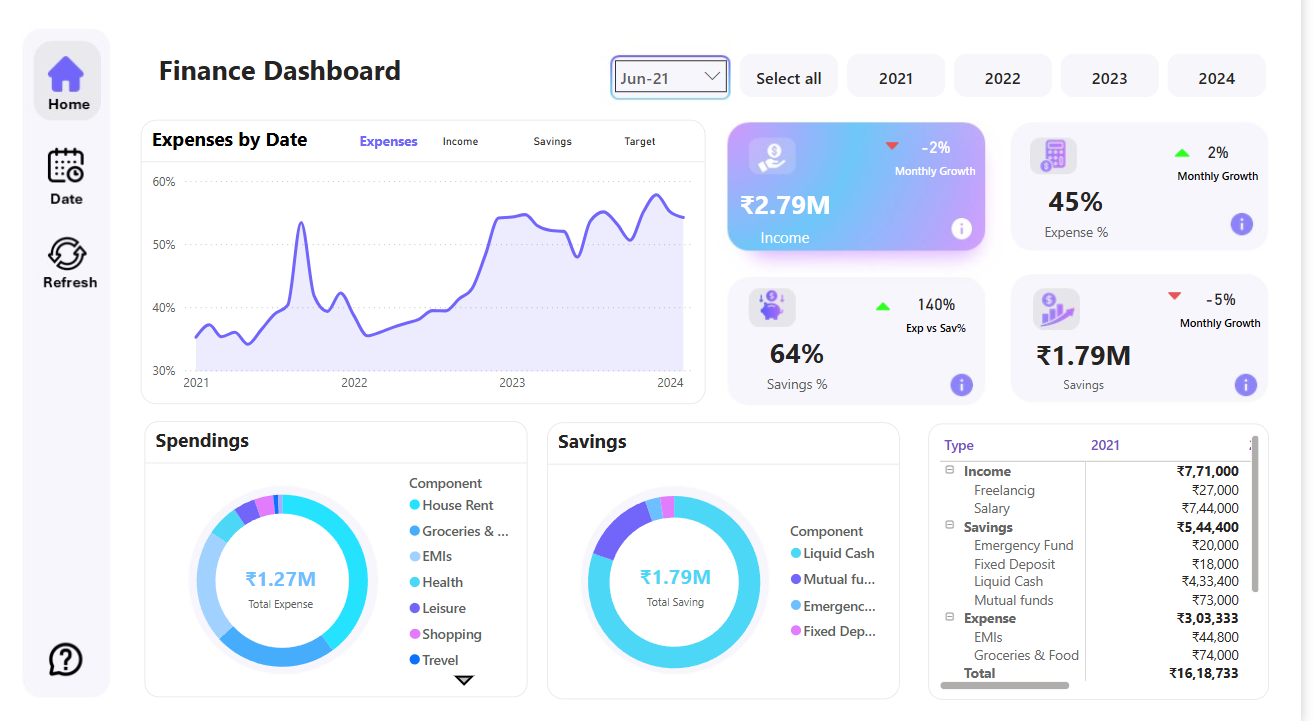

The dashboard page shown, as its layout file describes it:
{"tool":"powerbi","page":{"name":"Fin Dashboard","canvas":[1280,720],"ordinal":0},"visuals":[{"type":"card","fields":{"Values":["Key Measures.Total Income"]},"box":[718.4,187.4,109.3,65.6],"z":0},{"type":"card","fields":{"Values":["Key Measures.Expense %"]},"box":[999.6,182.7,118.7,65.6],"z":1000},{"type":"card","fields":{"Values":["Key Measures.Savings %"]},"box":[718.4,329.5,132.8,70.3],"z":2000},{"type":"card","fields":{"Values":["Key Measures.Total Saving"]},"box":[1001.1,329.5,131.2,71.8],"z":3000},{"type":"advancedSlicerVisual","fields":{"Values":["FinData.Year"]},"box":[724.4,56.7,529.6,53.1],"z":4000},{"type":"card","fields":{"Values":["Key Measures.Title"]},"box":[148.5,51.1,259,52.8],"z":5000},{"type":"donutChart","title":"Spendings","fields":{"Category":["FinData.Component"],"Y":["Divide(Key Measures.Total Expense, ScopedEval(Key Measures.Total Expense, []))"]},"box":[145.3,421.6,375.8,271.6],"z":6000},{"type":"areaChart","fields":{"Category":["FinData.Date"],"Y":["Key Measures.Trend_Hanle"]},"box":[140.6,126.5,554.4,279.6],"z":7000},{"type":"donutChart","title":"Savings","fields":{"Category":["FinData.Component"],"Y":["Divide(Key Measures.Total Saving, ScopedEval(Key Measures.Total Saving, []))"]},"box":[540.4,423.3,346.7,271.8],"z":8000},{"type":"advancedSlicerVisual","fields":{"Values":["Card_Handle.Type"]},"box":[338.1,127,359.6,42.9],"z":9000},{"type":"card","fields":{"Values":["Key Measures.Total Saving"]},"box":[618.6,546,95.7,74.2],"z":10000},{"type":"card","fields":{"Values":["Key Measures.Total Expense"]},"box":[216.1,539.4,125.4,90.7],"z":11000},{"type":"pivotTable","fields":{"Values":["Key Measures.Values"],"Columns":["FinData.Year","FinData.Date"],"Rows":["Type.Type","FinData.Component"]},"box":[914,425.1,334.8,271],"z":12000},{"type":"slicer","fields":{"Values":["Select_Month.Month-Yr"]},"box":[596.6,57.8,129.6,54.7],"z":13000},{"type":"card","title":"Monthly Growth","fields":{"Values":["Key Measures.Monthly_Growth"]},"box":[876.3,126.3,90,69.5],"z":14000},{"type":"card","title":"Monthly Growth","fields":{"Values":["Key Measures.Monthly_Expense_Growth"]},"box":[1153.1,131.1,90.3,69.1],"z":15000},{"type":"card","title":"Monthly Growth","fields":{"Values":["Key Measures.Monthy_Saving_Growth"]},"box":[876.3,285.8,91.6,60],"z":16000},{"type":"card","title":"Monthly Growth","fields":{"Values":["Key Measures.Monthly_Saving_Growth"]},"box":[1155.8,276.3,90,69.5],"z":17000},{"type":"cardVisual","fields":{"Data":["Key Measures.Arrow_icome"]},"box":[1131.8,131.1,72.6,51.4],"z":18000},{"type":"cardVisual","fields":{"Data":["Key Measures.Arrow_icome"]},"box":[1125.8,276.7,72.5,37.5],"z":19000},{"type":"cardVisual","fields":{"Data":["Key Measures.Arrow_Ex_vs_Savings"]},"box":[840.3,285.8,71.8,37.5],"z":20000},{"type":"cardVisual","fields":{"Data":["Key Measures.Arrow_Income_Savings"]},"box":[849.2,128.3,72.5,37.5],"z":21000},{"type":"actionButton","box":[34.4,235.8,65.6,68.7],"z":22000},{"type":"group","id":"g1","title":"Group 1","box":[35.3,146.6,404.5,314.6],"z":23000},{"type":"actionButton","box":[37.5,148.4,64,68.7],"z":24000},{"type":"cardVisual","fields":{"Data":["Key Measures.Total Saving"]},"box":[1197.3,359.4,48.8,43],"z":25000},{"type":"cardVisual","fields":{"Data":["Key Measures.Savings %"]},"box":[914.1,359.4,54.7,41],"z":26000},{"type":"cardVisual","fields":{"Data":["Key Measures.Total Income"]},"box":[912.2,199.2,56.6,54.7],"z":27000},{"type":"cardVisual","fields":{"Data":["Key Measures.Expense %"]},"box":[1198,199.7,47.9,51.1],"z":28000},{"type":"actionButton","box":[35.3,146.6,65.6,69.1],"z":33000,"group":"g1"}]}

Visuals, with their boxes on the page's 1280x720 design canvas (x1, y1, x2, y2). These are canvas units, not pixel positions in the 1313x721 screenshot, which may show the page scaled, cropped or inside an application window:
card - Key Measures.Total Income: [718,187,828,253]
card - Key Measures.Expense %: [1000,183,1118,248]
card - Key Measures.Savings %: [718,330,851,400]
card - Key Measures.Total Saving: [1001,330,1132,401]
advancedSlicerVisual - FinData.Year: [724,57,1254,110]
card - Key Measures.Title: [148,51,408,104]
"Spendings" donutChart: [145,422,521,693]
areaChart - FinData.Date x Key Measures.Trend_Hanle: [141,126,695,406]
"Savings" donutChart: [540,423,887,695]
advancedSlicerVisual - Card_Handle.Type: [338,127,698,170]
card - Key Measures.Total Saving: [619,546,714,620]
card - Key Measures.Total Expense: [216,539,342,630]
pivotTable - Key Measures.Values x FinData.Year: [914,425,1249,696]
slicer - Select_Month.Month-Yr: [597,58,726,112]
"Monthly Growth" card: [876,126,966,196]
"Monthly Growth" card: [1153,131,1243,200]
"Monthly Growth" card: [876,286,968,346]
"Monthly Growth" card: [1156,276,1246,346]
cardVisual - Key Measures.Arrow_icome: [1132,131,1204,182]
cardVisual - Key Measures.Arrow_icome: [1126,277,1198,314]
cardVisual - Key Measures.Arrow_Ex_vs_Savings: [840,286,912,323]
cardVisual - Key Measures.Arrow_Income_Savings: [849,128,922,166]
actionButton: [34,236,100,304]
"Group 1" group: [35,147,440,461]
actionButton: [38,148,102,217]
cardVisual - Key Measures.Total Saving: [1197,359,1246,402]
cardVisual - Key Measures.Savings %: [914,359,969,400]
cardVisual - Key Measures.Total Income: [912,199,969,254]
cardVisual - Key Measures.Expense %: [1198,200,1246,251]
actionButton: [35,147,101,216]
